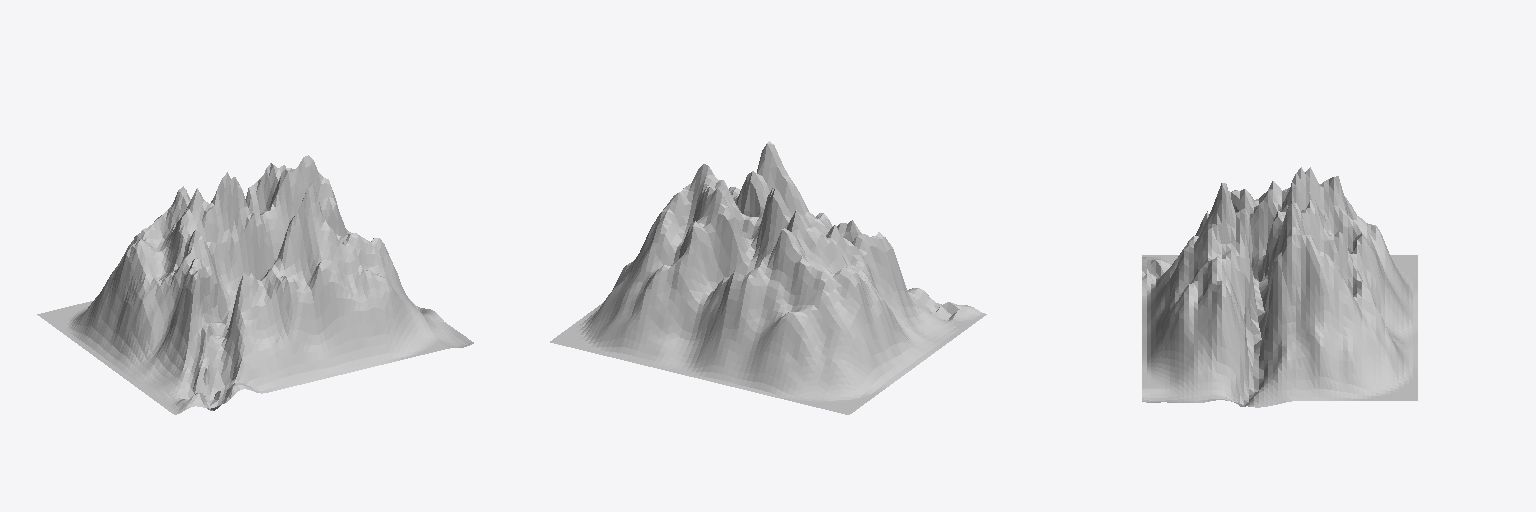
Rendered from mount.blend2.obj.
3 renders of one model, left to right at view 1: azimuth 30°, elevation 25°; view 2: azimuth 150°, elevation 25°; view 3: azimuth 270°, elevation 25°, orthographic.
Visible parts, largest first — view 1: Landscape; view 2: Landscape; view 3: Landscape.
Part boxes in pixels (x1,y1,x2,y2): Landscape: (37, 155, 473, 414); Landscape: (550, 141, 986, 414); Landscape: (1142, 167, 1417, 407).
Size of the model in its own units: 4.59 by 2.53 by 3.66.